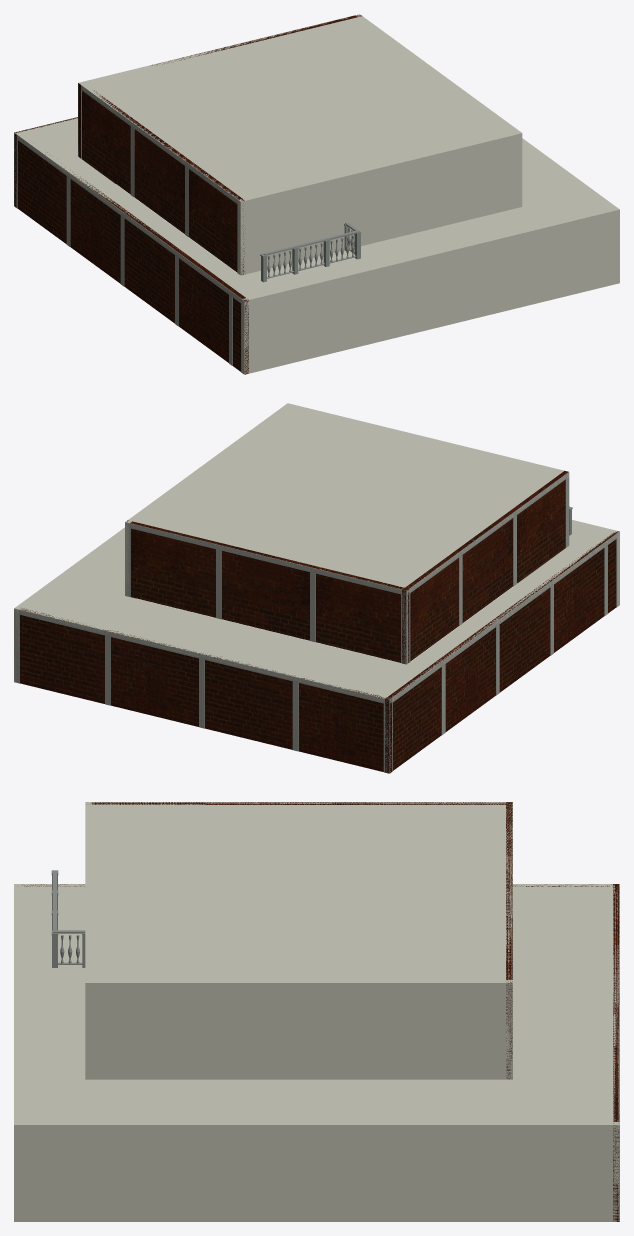
Rendered from building.glb.
3 views of the same model, one above another, from view 1: azimuth 30°, elevation 25°; view 2: azimuth 150°, elevation 25°; view 3: azimuth 270°, elevation 25° (orthographic). The views are drawn at different scales.
Visible parts, largest first — view 1: roof/upper:0/roof_slab#0001, lower:0/edge0/z0/lower:0/edge0/z0/wall_0_0, upper:0/edge0/z3/upper:0/edge0/z3/wall_0_0, roof/lower:0/roof_slab#0001, lower:0/edge3/z0/lower:0/edge3/z0/wall_0_0, upper:0/edge3/z3/upper:0/edge3/z3/wall_0_0, lower:0/edge3/z0/lower:0/edge3/z0/beam_0_0, upper:0/edge1/z3/upper:0/edge1/z3/wall_0_0, upper:0/edge3/z3/upper:0/edge3/z3/beam_0_0, lower:0/edge1/z0/lower:0/edge1/z0/wall_0_0, upper:0/edge2/z3/upper:0/edge2/z3/wall_0_0; view 2: roof/upper:0/roof_slab#0001, lower:0/edge2/z0/lower:0/edge2/z0/wall_0_0, roof/lower:0/roof_slab#0001, upper:0/edge2/z3/upper:0/edge2/z3/wall_0_0, lower:0/edge3/z0/lower:0/edge3/z0/wall_0_0, upper:0/edge3/z3/upper:0/edge3/z3/wall_0_0, lower:0/edge2/z0/lower:0/edge2/z0/beam_0_0, upper:0/edge2/z3/upper:0/edge2/z3/beam_0_0, lower:0/edge3/z0/lower:0/edge3/z0/beam_0_0, upper:0/edge1/z3/upper:0/edge1/z3/wall_0_0, upper:0/edge3/z3/upper:0/edge3/z3/beam_0_0, upper:0/edge0/z3/upper:0/edge0/z3/wall_0_0 (+1 smaller); view 3: roof/upper:0/roof_slab#0001, roof/lower:0/roof_slab#0001, lower:0/edge1/z0/lower:0/edge1/z0/wall_0_0, upper:0/edge1/z3/upper:0/edge1/z3/wall_0_0, lower:0/edge0/z0/lower:0/edge0/z0/wall_0_0, upper:0/edge0/z3/upper:0/edge0/z3/wall_0_0, lower:0/edge2/z0/lower:0/edge2/z0/wall_0_0, upper:0/edge2/z3/upper:0/edge2/z3/wall_0_0, upper:0/edge3/z3/upper:0/edge3/z3/wall_0_0.
Boxes of the visible parts, left/top/right/bottom form: roof/upper:0/roof_slab#0001: left=78, top=14, right=520, bottom=204; lower:0/edge0/z0/lower:0/edge0/z0/wall_0_0: left=241, top=209, right=619, bottom=374; upper:0/edge0/z3/upper:0/edge0/z3/wall_0_0: left=238, top=132, right=522, bottom=275; roof/lower:0/roof_slab#0001: left=14, top=117, right=618, bottom=303; lower:0/edge3/z0/lower:0/edge3/z0/wall_0_0: left=17, top=140, right=248, bottom=374; upper:0/edge3/z3/upper:0/edge3/z3/wall_0_0: left=82, top=90, right=244, bottom=274; lower:0/edge3/z0/lower:0/edge3/z0/beam_0_0: left=14, top=133, right=243, bottom=303; upper:0/edge1/z3/upper:0/edge1/z3/wall_0_0: left=355, top=14, right=522, bottom=207; upper:0/edge3/z3/upper:0/edge3/z3/beam_0_0: left=81, top=85, right=240, bottom=205; lower:0/edge1/z0/lower:0/edge1/z0/wall_0_0: left=522, top=138, right=619, bottom=284; upper:0/edge2/z3/upper:0/edge2/z3/wall_0_0: left=78, top=15, right=361, bottom=158; roof/upper:0/roof_slab#0001: left=127, top=404, right=568, bottom=592; lower:0/edge2/z0/lower:0/edge2/z0/wall_0_0: left=20, top=608, right=392, bottom=772; roof/lower:0/roof_slab#0001: left=14, top=520, right=619, bottom=703; upper:0/edge2/z3/upper:0/edge2/z3/wall_0_0: left=127, top=520, right=409, bottom=662; lower:0/edge3/z0/lower:0/edge3/z0/wall_0_0: left=385, top=531, right=619, bottom=773; upper:0/edge3/z3/upper:0/edge3/z3/wall_0_0: left=402, top=471, right=568, bottom=663; lower:0/edge2/z0/lower:0/edge2/z0/beam_0_0: left=14, top=609, right=389, bottom=703; upper:0/edge2/z3/upper:0/edge2/z3/beam_0_0: left=125, top=522, right=406, bottom=595; lower:0/edge3/z0/lower:0/edge3/z0/beam_0_0: left=389, top=533, right=619, bottom=704; upper:0/edge1/z3/upper:0/edge1/z3/wall_0_0: left=125, top=405, right=289, bottom=596; upper:0/edge3/z3/upper:0/edge3/z3/beam_0_0: left=406, top=472, right=568, bottom=595; upper:0/edge0/z3/upper:0/edge0/z3/wall_0_0: left=285, top=403, right=569, bottom=477; roof/upper:0/roof_slab#0001: left=85, top=802, right=512, bottom=987; roof/lower:0/roof_slab#0001: left=14, top=884, right=619, bottom=1129; lower:0/edge1/z0/lower:0/edge1/z0/wall_0_0: left=14, top=1122, right=619, bottom=1221; upper:0/edge1/z3/upper:0/edge1/z3/wall_0_0: left=85, top=980, right=512, bottom=1079; lower:0/edge0/z0/lower:0/edge0/z0/wall_0_0: left=14, top=884, right=20, bottom=1221; upper:0/edge0/z3/upper:0/edge0/z3/wall_0_0: left=85, top=802, right=92, bottom=1079; lower:0/edge2/z0/lower:0/edge2/z0/wall_0_0: left=613, top=884, right=619, bottom=1221; upper:0/edge2/z3/upper:0/edge2/z3/wall_0_0: left=506, top=802, right=512, bottom=1078; upper:0/edge3/z3/upper:0/edge3/z3/wall_0_0: left=91, top=802, right=510, bottom=804.
Size of the model in its own units: 16 by 6 by 17.
4 materials, 1 textured.
